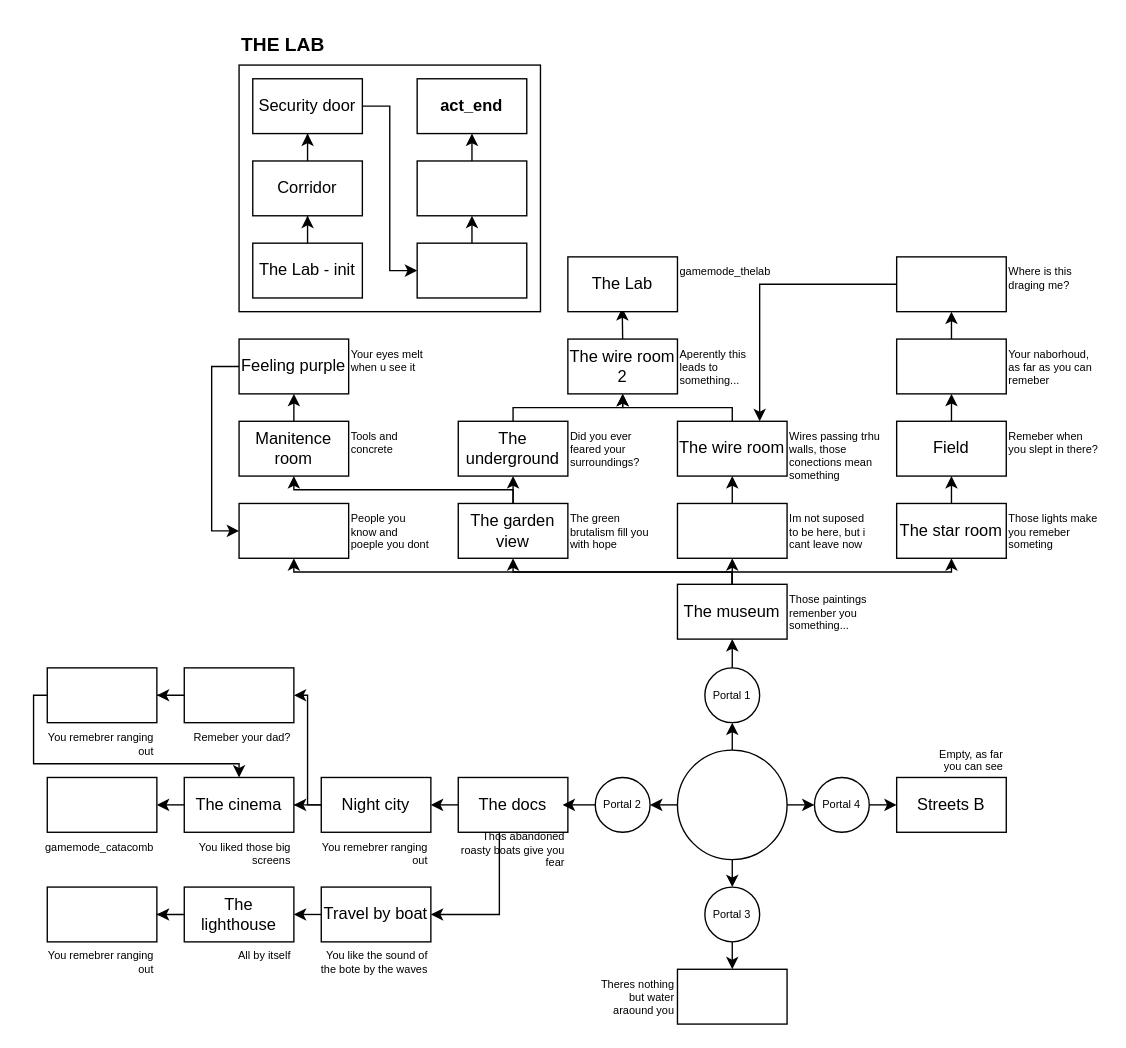
Some shapes in this 1126 by 1048 pixel diagram are drawn without their labels. Each missing label, with the centre of its shape:
"Bathroom" belongs at [101,695].
"HUB" belongs at [731,804].
"sqc_rundown" belongs at [471,188].
"Streets A" belongs at [950,366].
"The bar" belongs at [238,695].
"The catacomb" belongs at [101,804].
"The heart machine" belongs at [471,270].
"The lightpost" belongs at [731,996].
"The room of people" belongs at [293,530].
"The Sewer" belongs at [950,284].
"The workers side" belongs at [731,530].
"Under the sea" belongs at [101,914].
